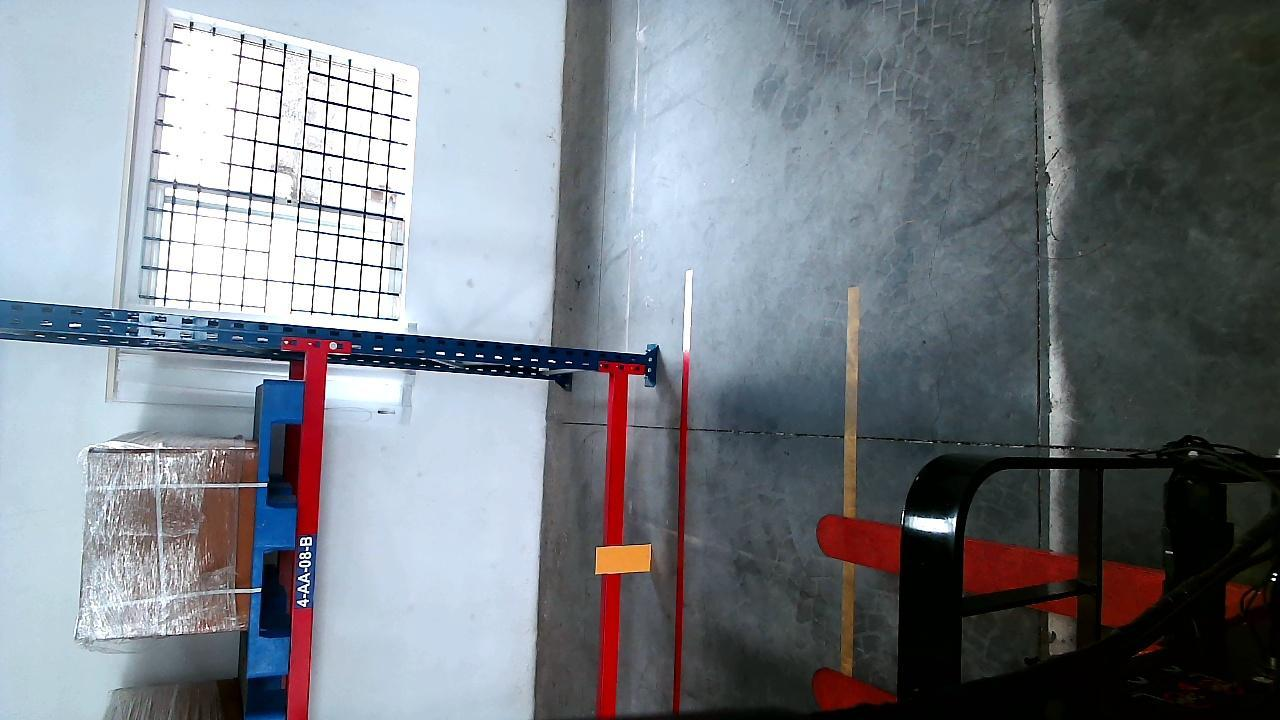red_line: (668, 272, 694, 712)
yellow_line: (840, 285, 860, 675)
